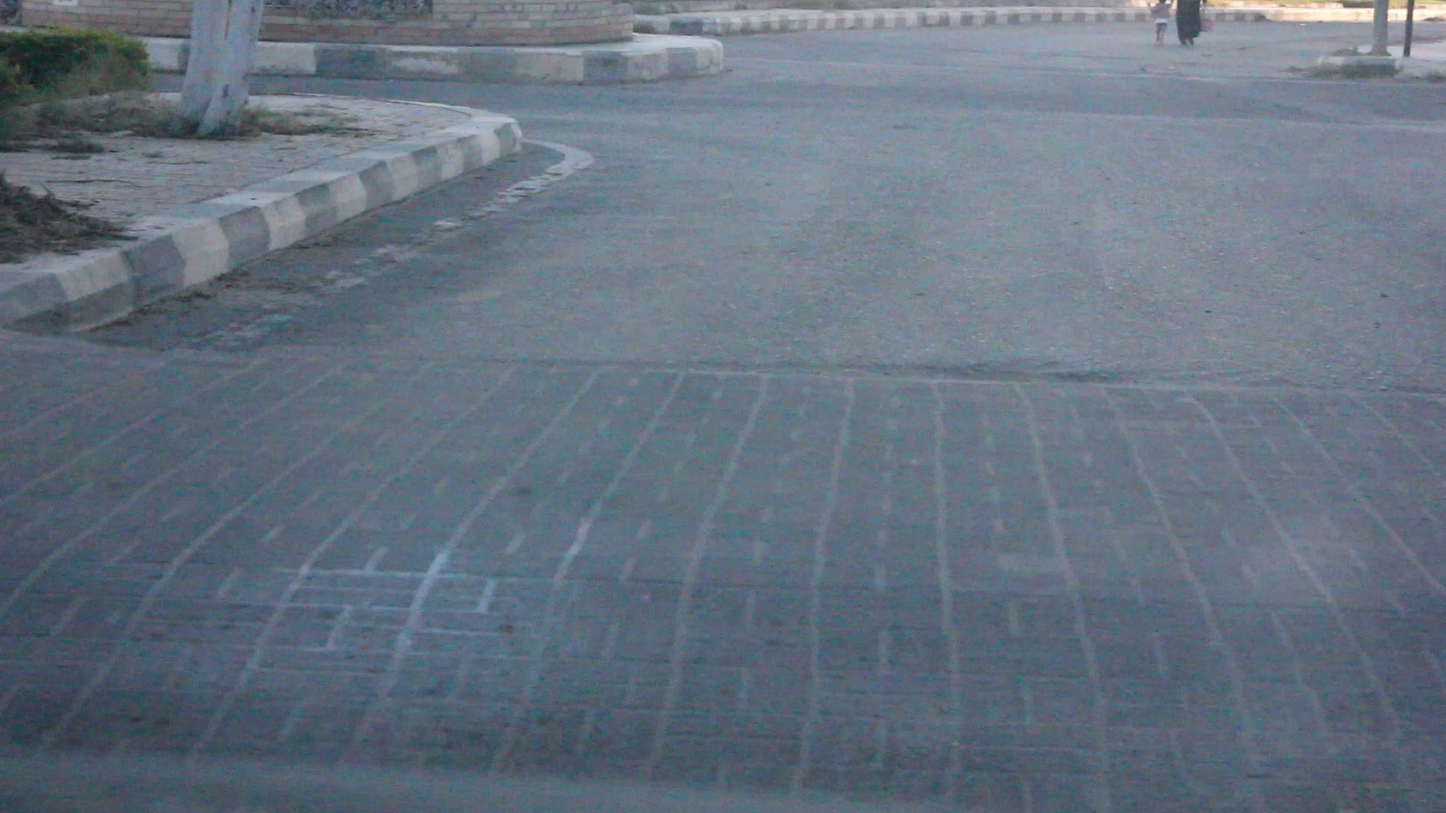Bump: (11, 337, 1446, 777)
